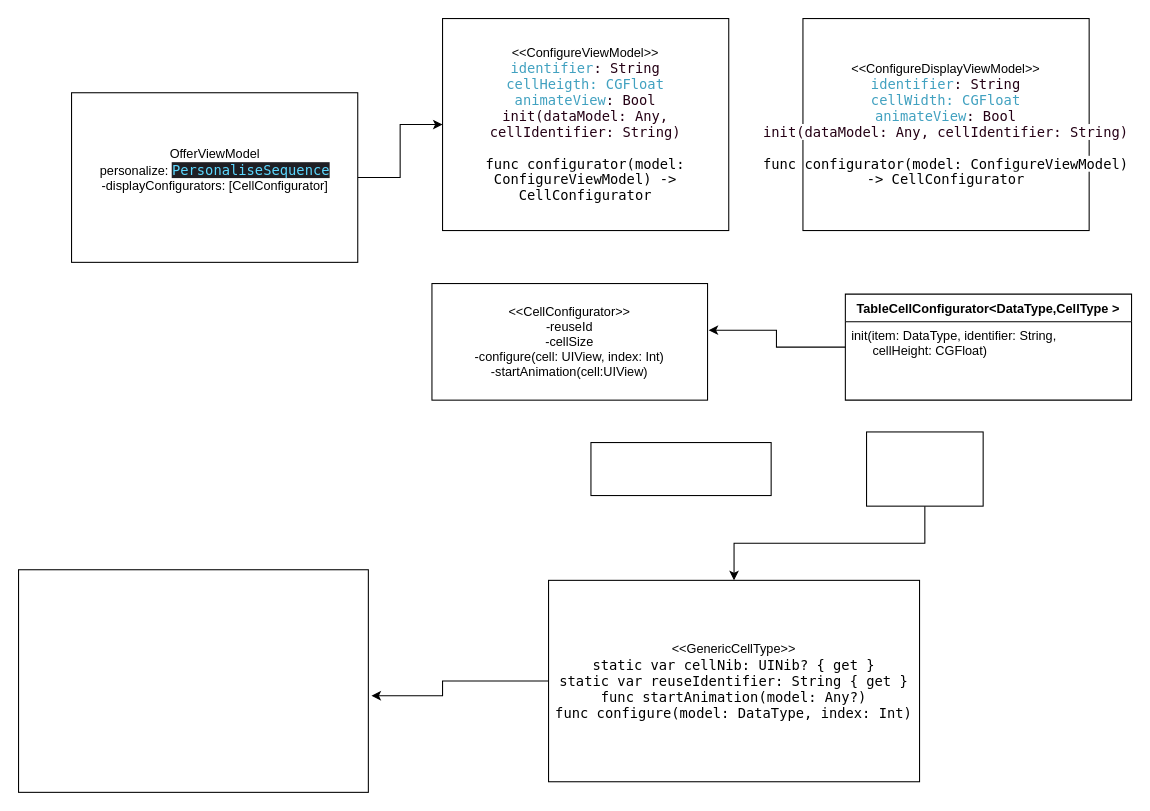
The diagram is 1150 pixels wide and 811 high, and some of its shapes have lost their labels. Each missing label, with the centre of its shape:
CellType: point (924, 468)
DataType //Generic Model: point (680, 468)
OffersCardsListTableCell: UITableViewCell: point (192, 680)
